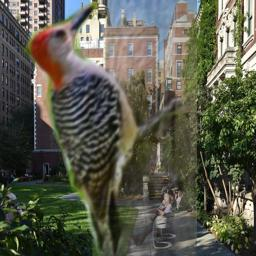Woodpecker: (18, 0, 197, 256)
